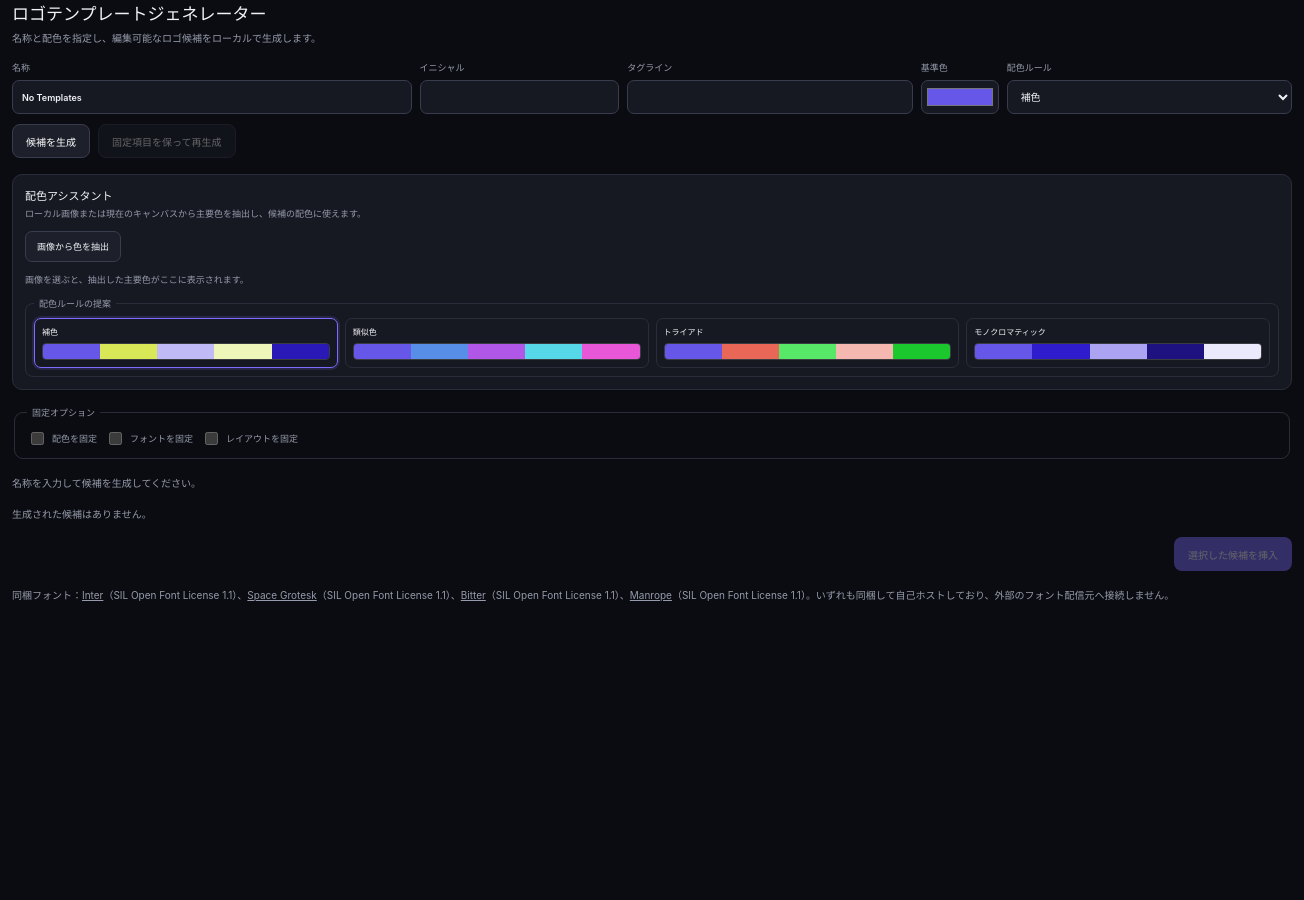
it: LogoGeneratorPanel › handles an empty template source as a no-candidate state
This screenshot has width=1304, height=900.
Click the button "候補を生成" at (51, 141), box [12,124,90,158]
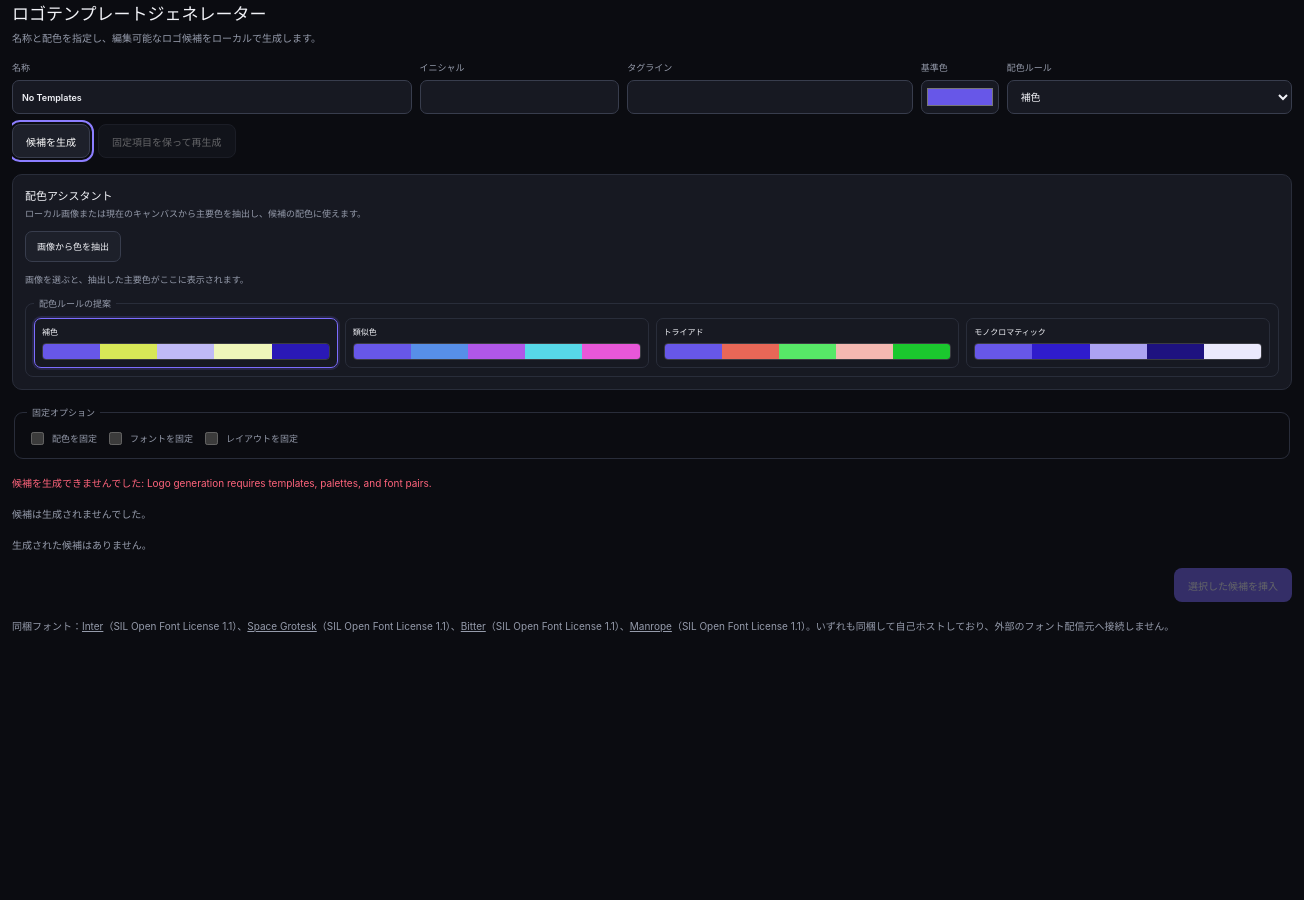
Check: the message "候補を生成できませんでした: Logo generation requires templates, palettes, and font pairs." is shown, box [12,477,432,489]
Check: the message "候補は生成されませんでした。" is shown, box [12,508,151,520]
